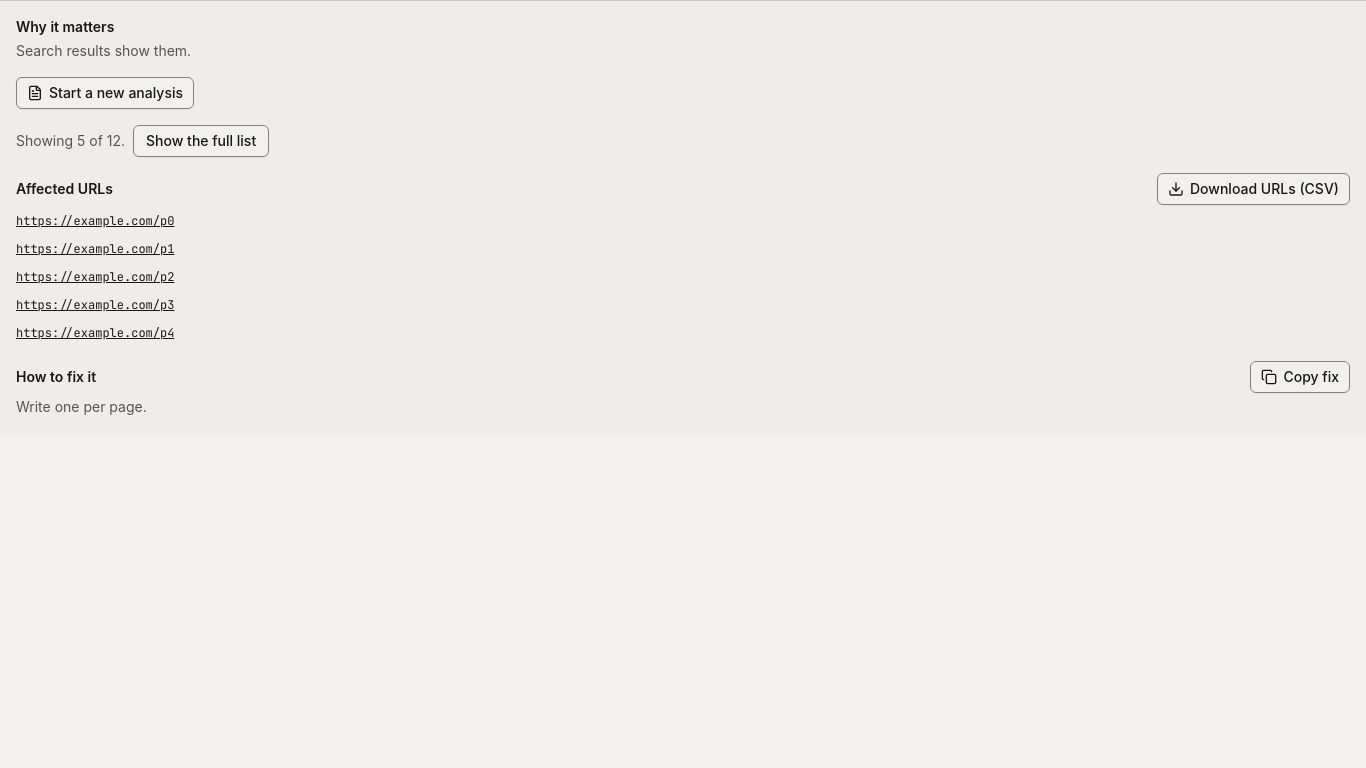
IssueDetail — previewed lists › shows an inline error and lets the reader try again
The image size is (1366, 768).
Click the button with test id "report-issue-load-all": click(201, 141) [133,125,269,157]
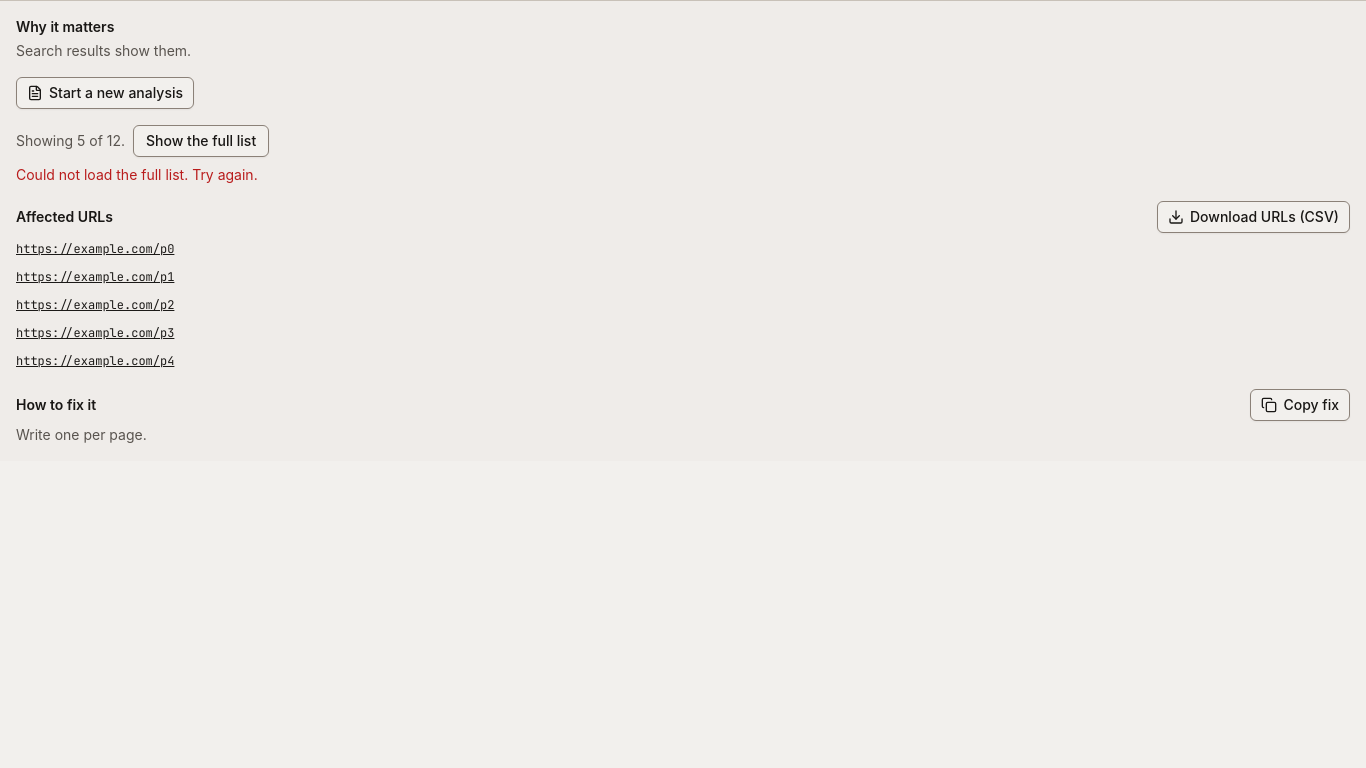
Expected: the message with test id "report-issue-load-all-error" reads "Could not load the full list. Try again.", [16,166,258,183]
Click the button with test id "report-issue-load-all": click(201, 141) [133,125,269,157]
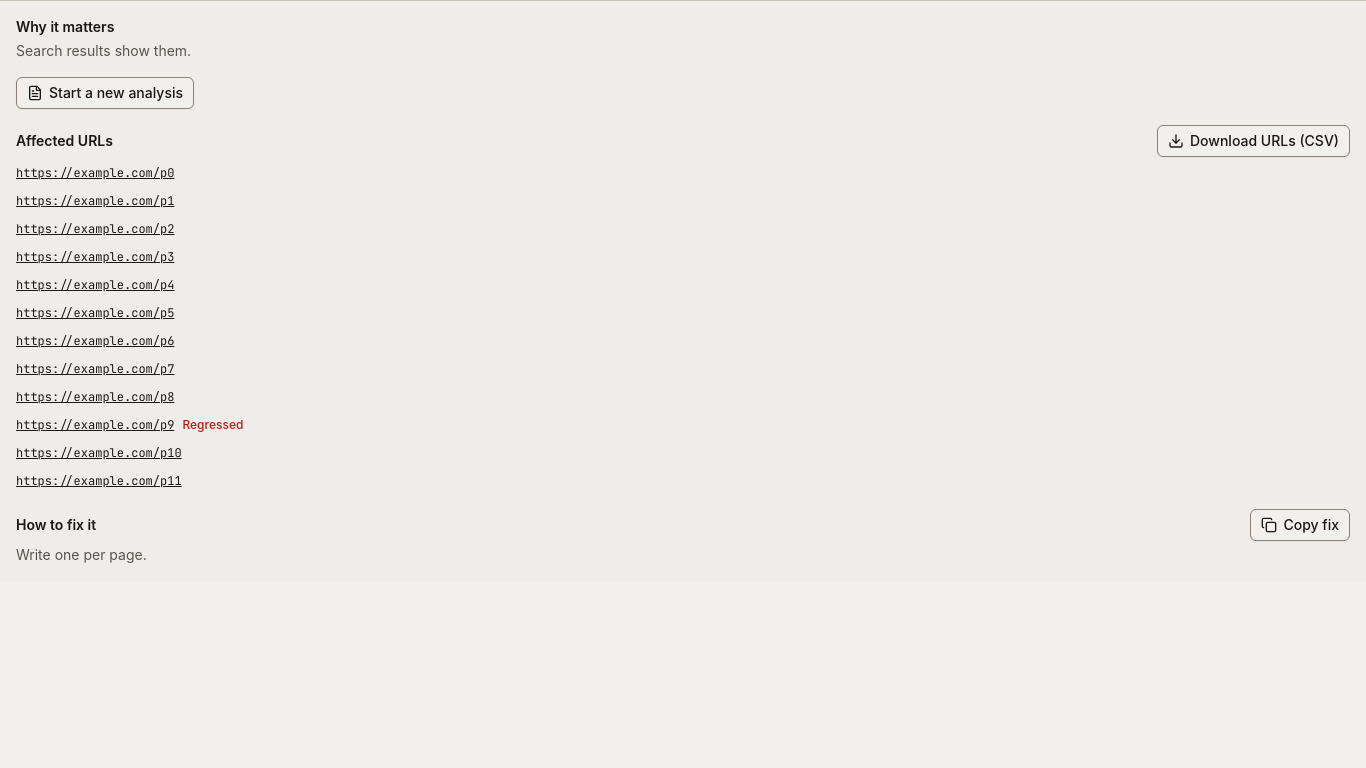
Expected: the element with test id "report-issue-preview" is gone
